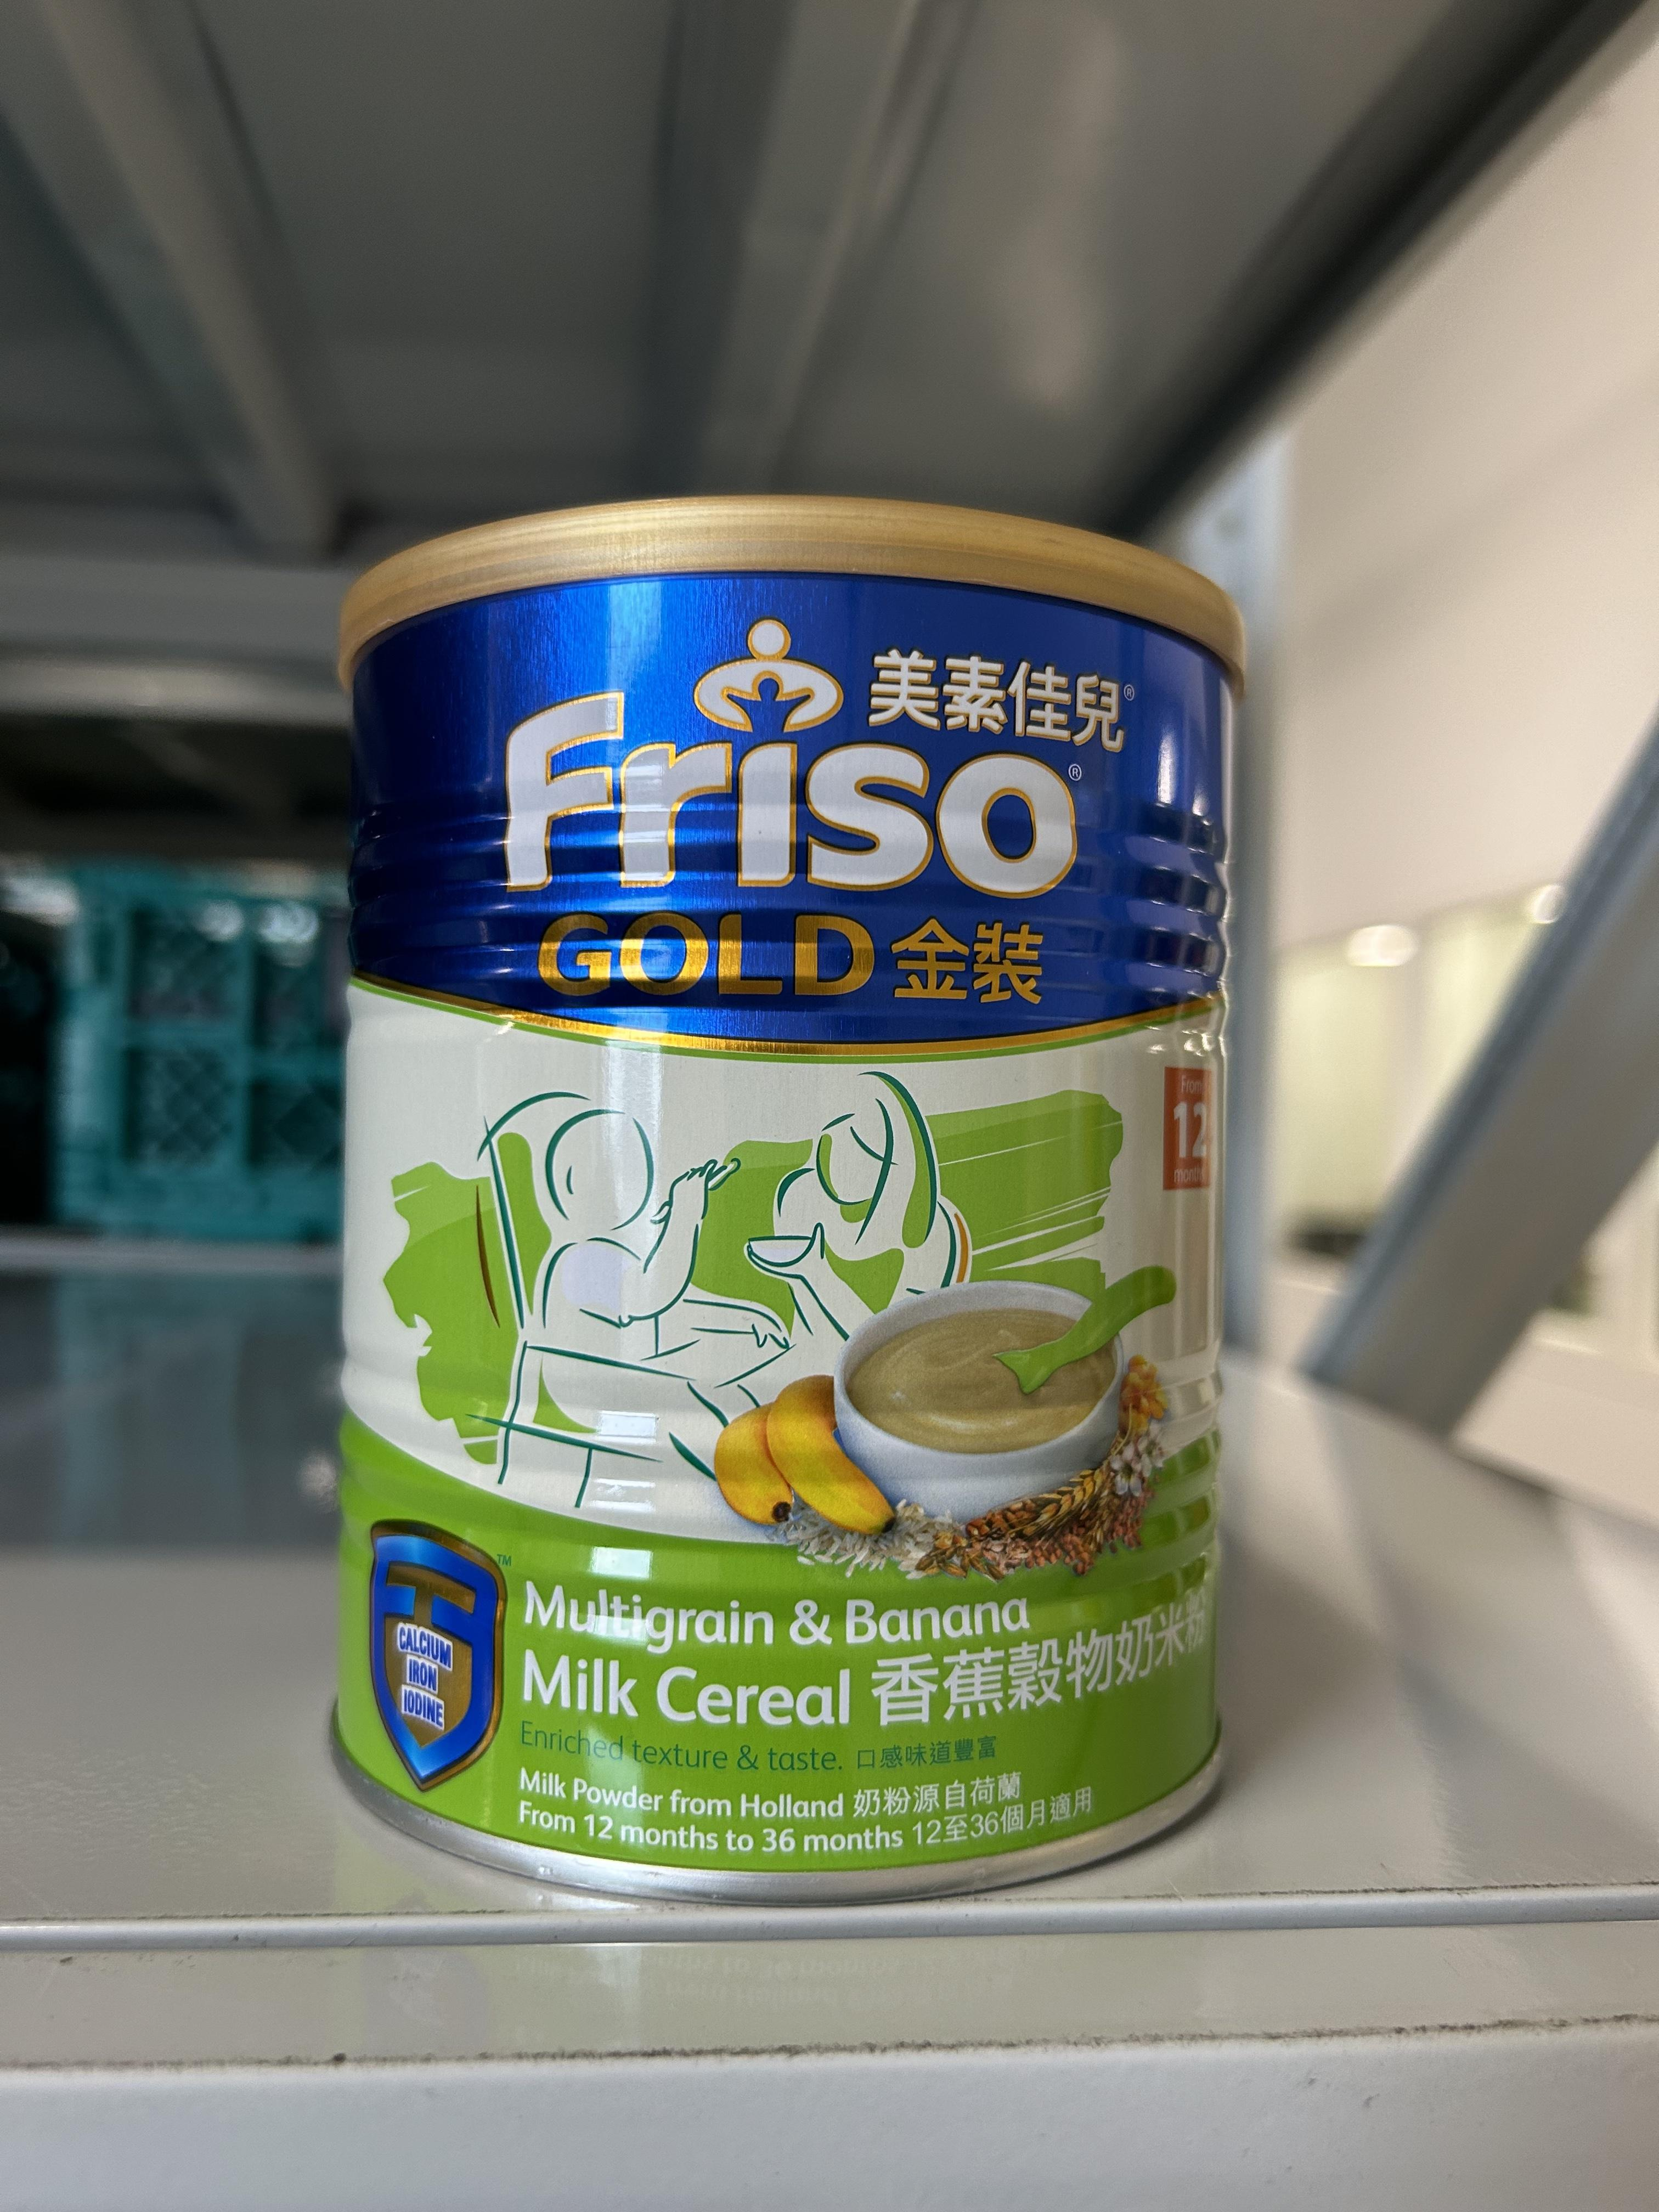object_name: (354, 573, 1201, 1811)
